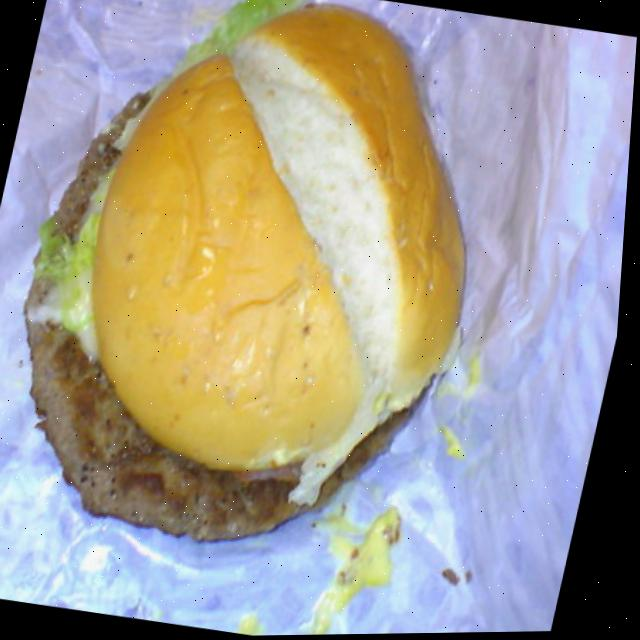汉堡快餐: (0, 0, 531, 565)
